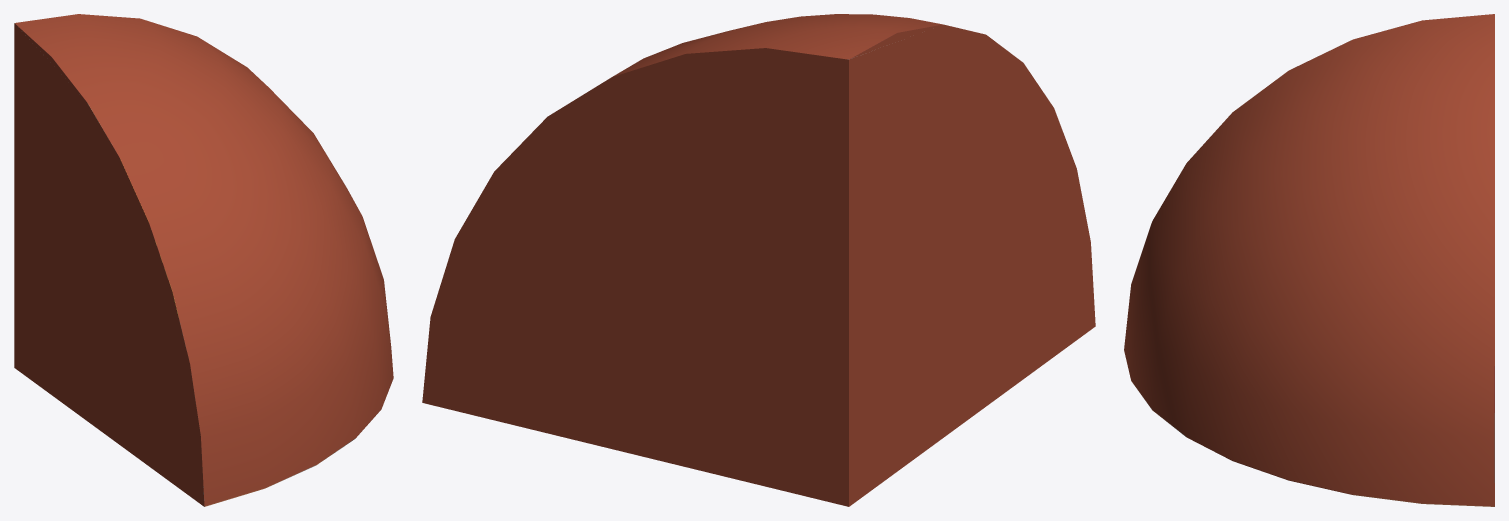
The model's file is r4c1_body_brown.gltf.
3 renders of one model, left to right at view 1: azimuth 30°, elevation 25°; view 2: azimuth 150°, elevation 25°; view 3: azimuth 270°, elevation 25°, orthographic. The views are drawn at different scales.
Visible parts, largest first — view 1: r4c1_body_brown; view 2: r4c1_body_brown; view 3: r4c1_body_brown.
Boxes of the visible parts, x1,y1,x2,y2 form: r4c1_body_brown: (14,14,393,506); r4c1_body_brown: (422,14,1095,506); r4c1_body_brown: (1124,14,1494,506).
Size of what is drawn, in the model's own units: 2 by 2 by 2.
1 material, 1 textured.
